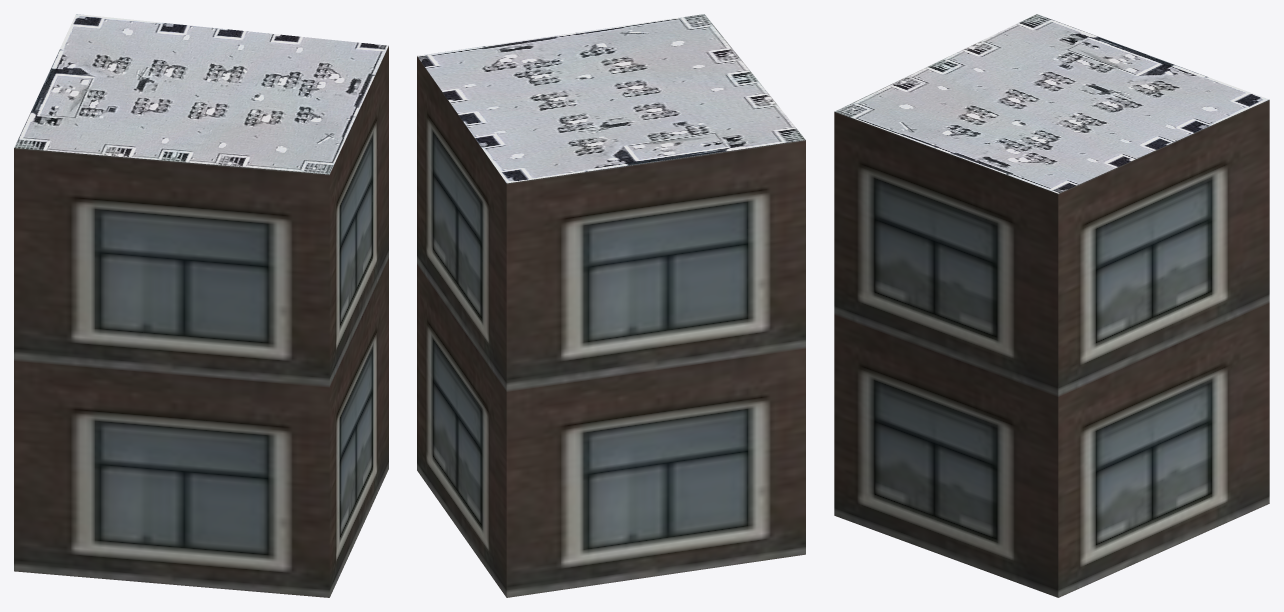
File: ResTex__1710.fbx
The picture shows the model from 3 angles, left to right: view 1: azimuth 30°, elevation 25°; view 2: azimuth 150°, elevation 25°; view 3: azimuth 270°, elevation 25°; orthographic projection. The views are drawn at different scales.
Parts seen in each view (by area): view 1: CityEngineMaterial_16_m, CityEngineMaterial_15_m; view 2: CityEngineMaterial_16_m, CityEngineMaterial_15_m; view 3: CityEngineMaterial_16_m, CityEngineMaterial_15_m.
Boxes of the visible parts, x1,y1,x2,y2 form: CityEngineMaterial_16_m: (14,46,388,597); CityEngineMaterial_15_m: (14,14,388,174); CityEngineMaterial_16_m: (417,56,805,597); CityEngineMaterial_15_m: (417,14,805,183); CityEngineMaterial_16_m: (834,99,1269,597); CityEngineMaterial_15_m: (835,14,1268,193).
Bounding box in the file's own units: 5.72 × 6 × 5.85.
Materials: 2 (2 with a texture image).
